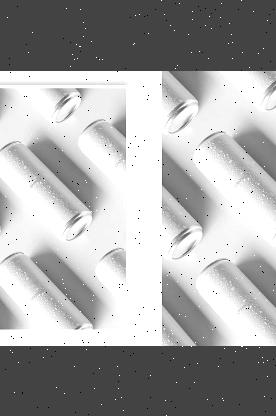Can: (193, 130, 276, 245), (0, 140, 92, 240), (0, 251, 93, 329), (196, 257, 276, 346), (78, 118, 126, 192), (162, 186, 202, 259), (16, 87, 81, 123), (95, 247, 126, 305)
